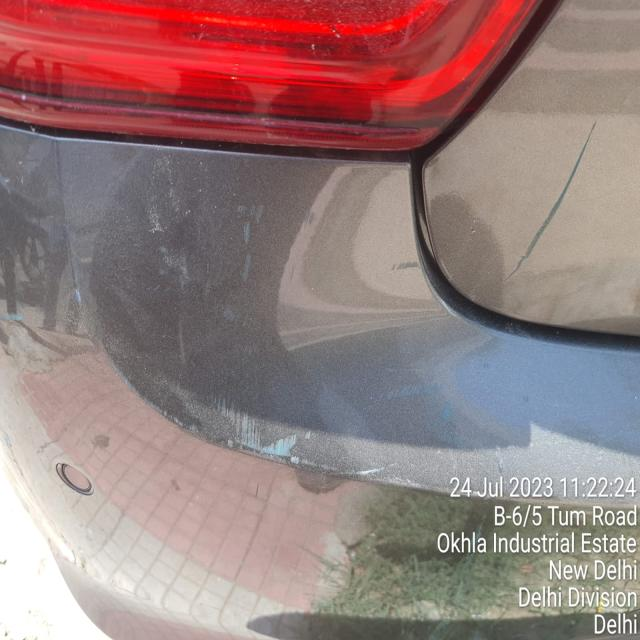damage: (211, 393, 391, 486)
